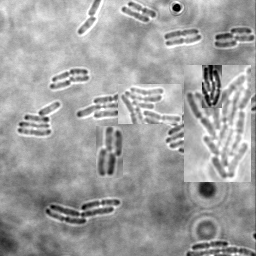Dividing: (52, 67, 89, 81), (128, 1, 157, 18), (166, 34, 202, 47), (164, 28, 200, 39), (192, 239, 229, 249)
Microcolony: (184, 65, 251, 182), (118, 84, 182, 124), (45, 199, 121, 224), (18, 101, 61, 136), (96, 126, 123, 178), (76, 88, 118, 119), (214, 27, 255, 48), (202, 65, 222, 108)
Rod: (121, 5, 150, 23), (78, 16, 99, 34), (50, 79, 72, 89), (69, 73, 90, 82)
